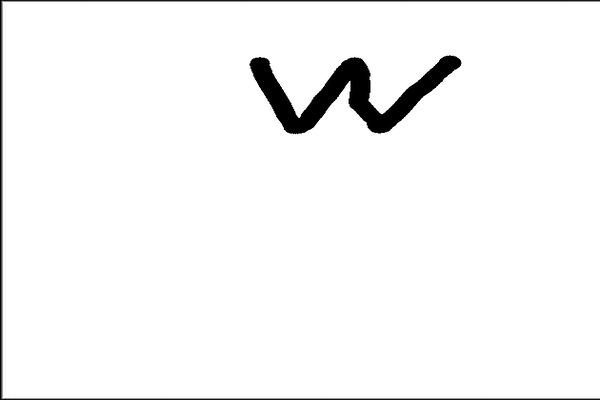w: (242, 34, 471, 147)
